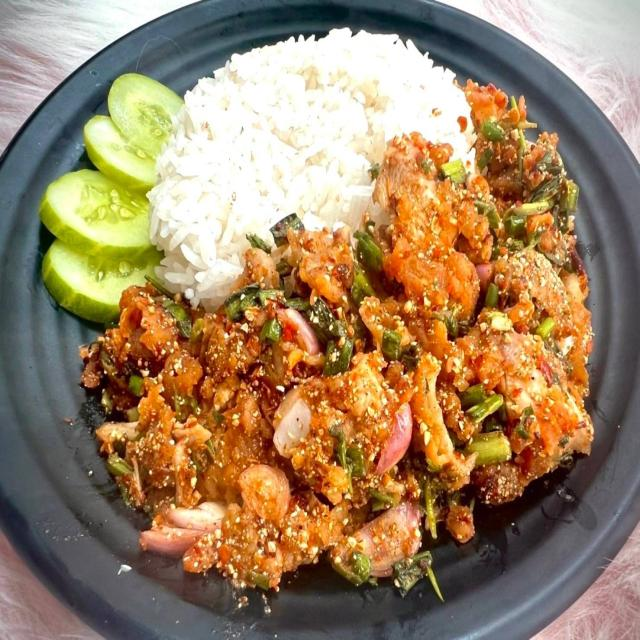carb: (157, 52, 385, 256)
meat: (96, 276, 584, 551)
spicy chicken rice salad: (124, 39, 596, 579)
vegetable: (50, 90, 157, 302), (518, 152, 582, 245), (460, 380, 517, 469), (310, 287, 371, 368)
